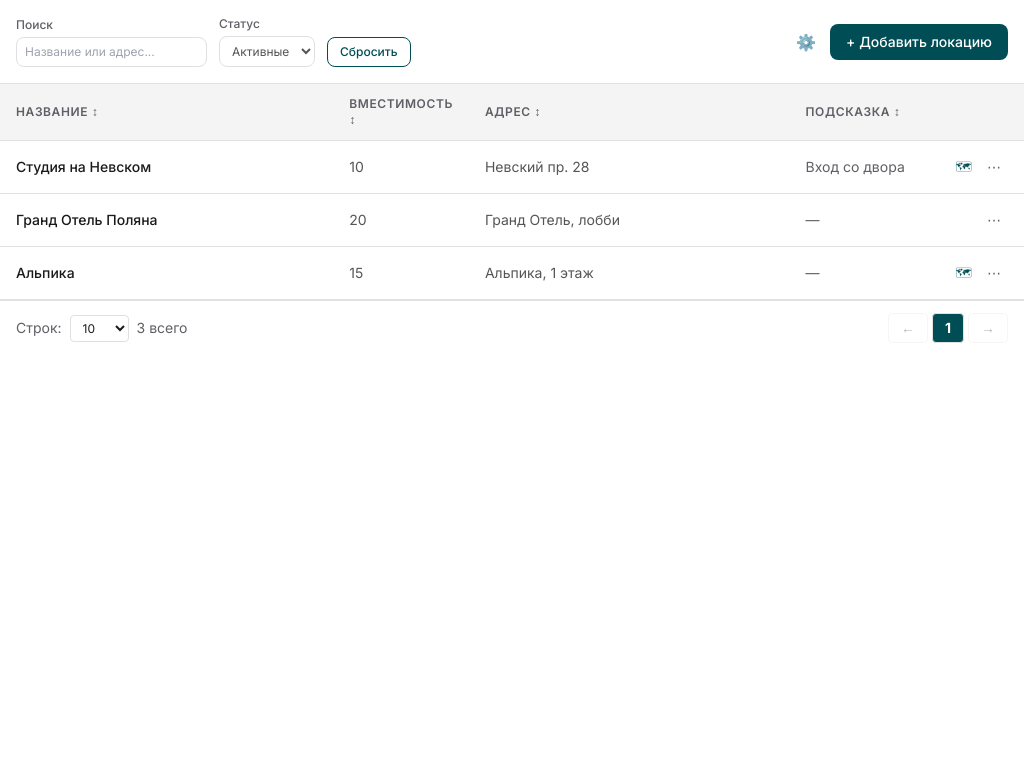
Scenario: LocationsTable › Mode A confirm enqueues the deferred delete (resolutions {} + the FULL tree)
Check: the text "Студия на Невском" is shown, box 16,158 -> 151,175
Check: the text "Гранд Отель Поляна" is shown, box 16,211 -> 158,228
Step 1. Click the button named "Действия" → (994, 167), box 980,153 -> 1008,181
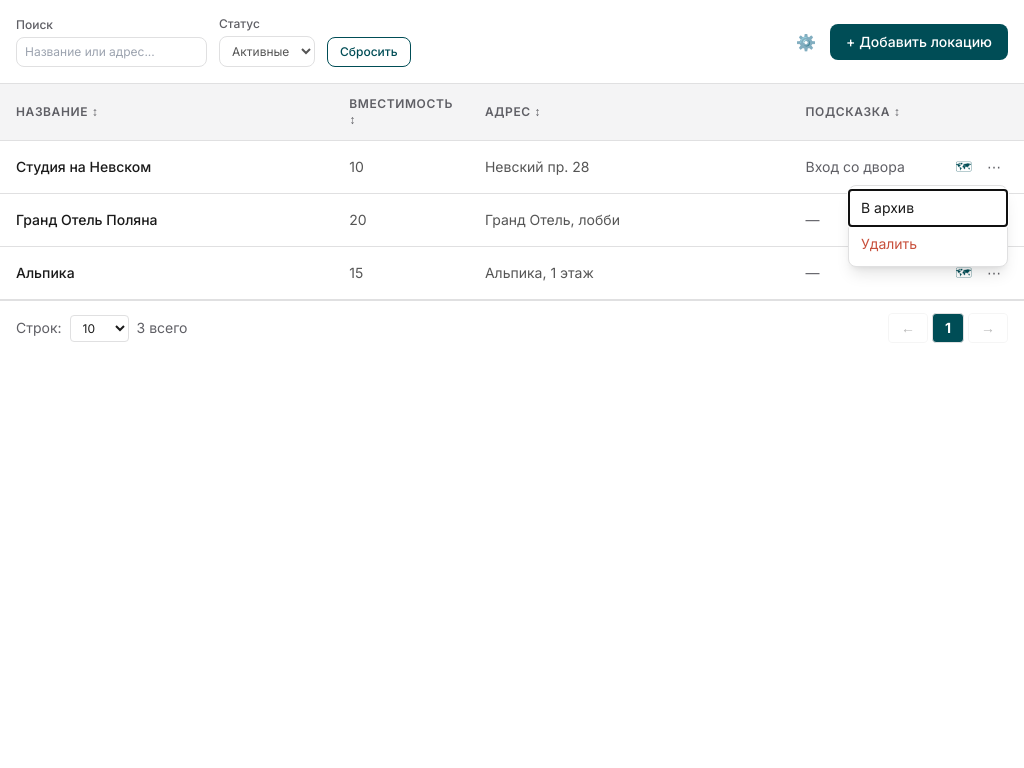
Step 2. Click the menu item "Удалить" → (928, 244), box 849,226 -> 1007,262
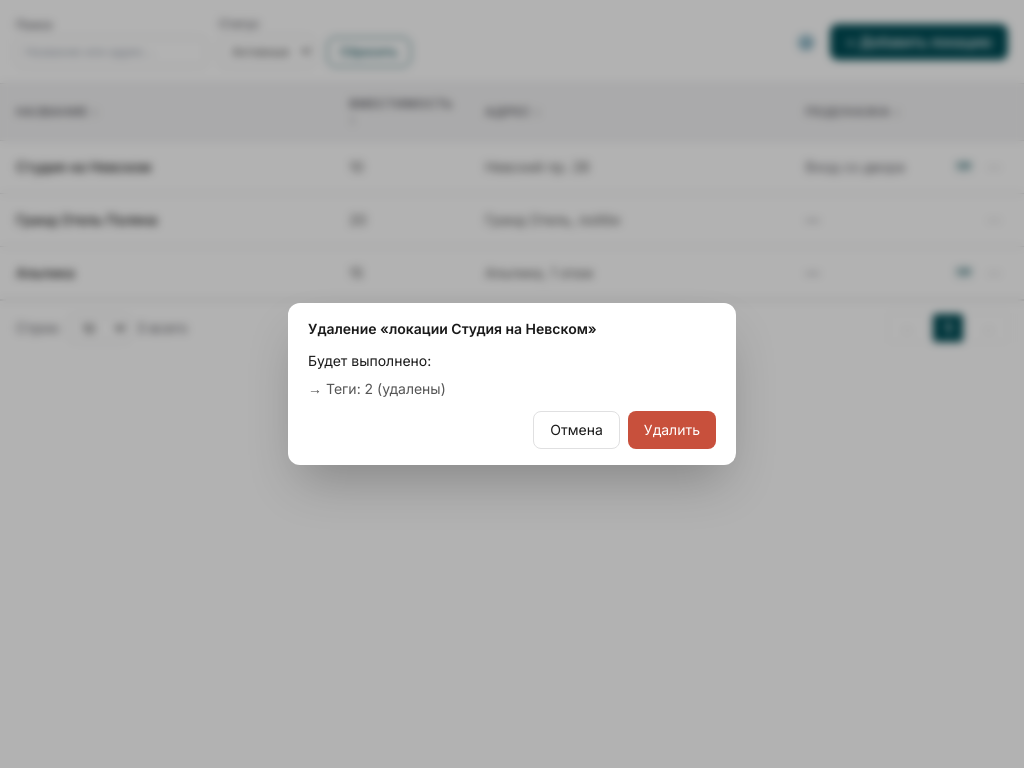
Check: the element with test id "delete-dialog" is shown, box 288,303 -> 736,465
All deps auto — no choice checkboxes, button enabled immediately
Step 3. Click the button with test id "delete-dialog-confirm-btn" → (672, 430), box 628,411 -> 716,449
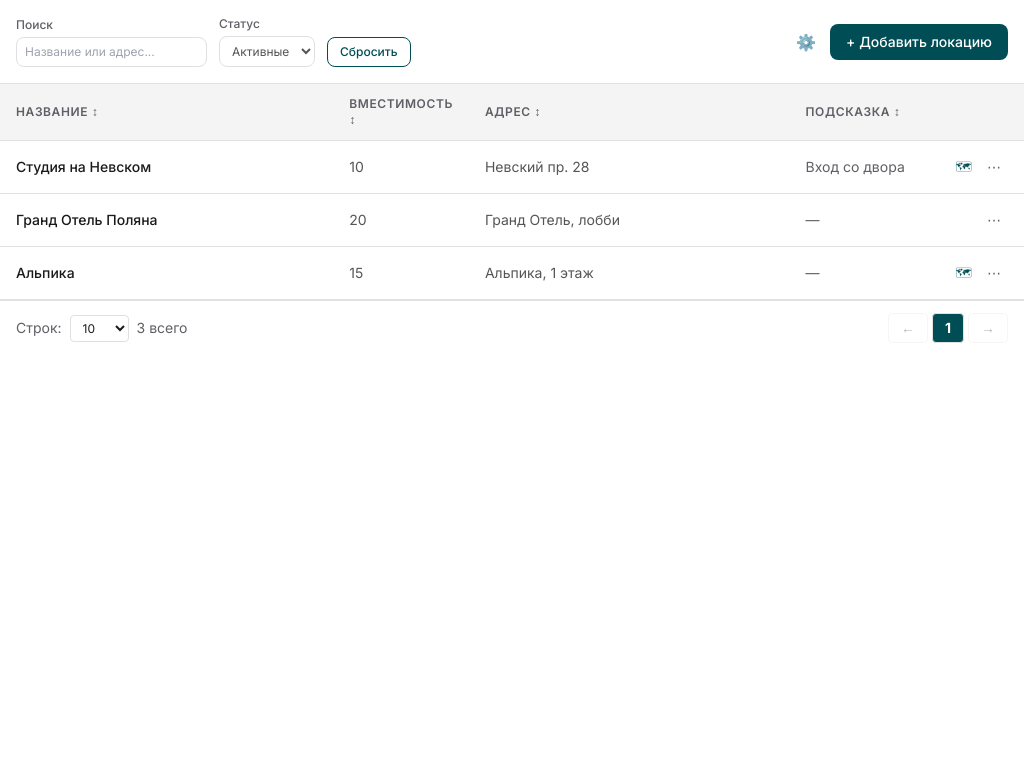
Check: the element with test id "delete-dialog" is gone
